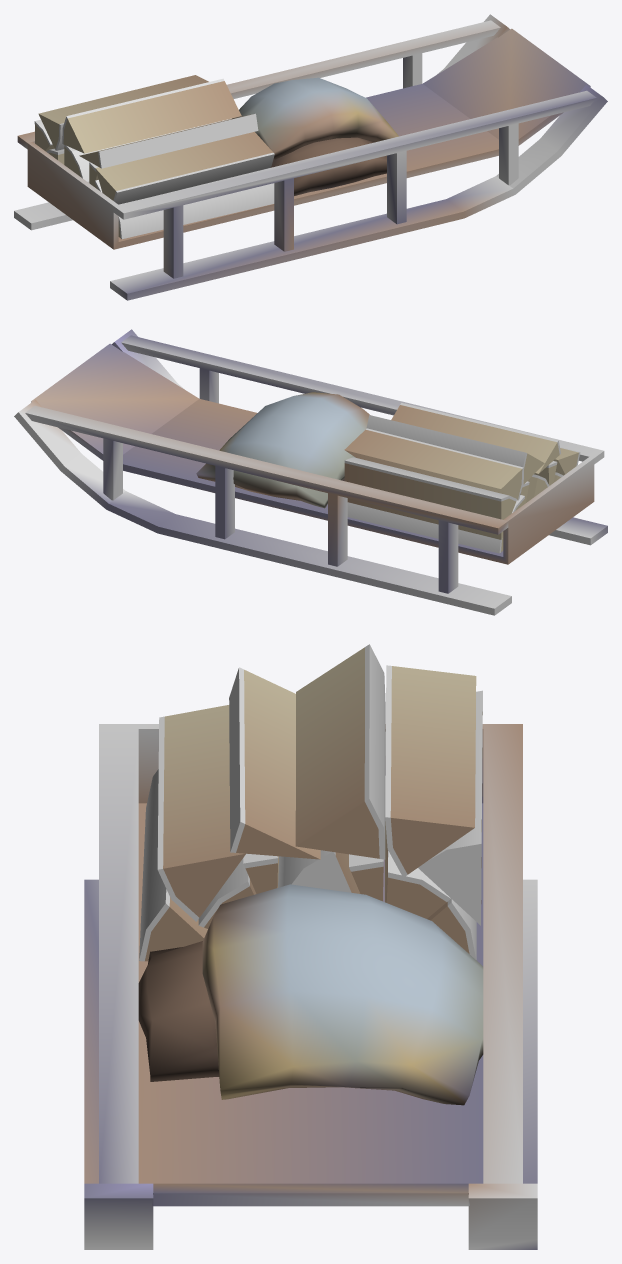
File: Volokushi_gr.fbx
3 renders of one model, top to bottom at view 1: azimuth 30°, elevation 25°; view 2: azimuth 150°, elevation 25°; view 3: azimuth 270°, elevation 25°, orthographic. The views are drawn at different scales.
Parts seen in each view (by area): view 1: firewood; view 2: firewood; view 3: firewood.
Part boxes in pixels (x1,y1,x2,y2): firewood: [14, 14, 607, 300]; firewood: [14, 329, 607, 615]; firewood: [84, 644, 537, 1249].
Bounding box in the file's own units: 122 × 31.6 × 50.
